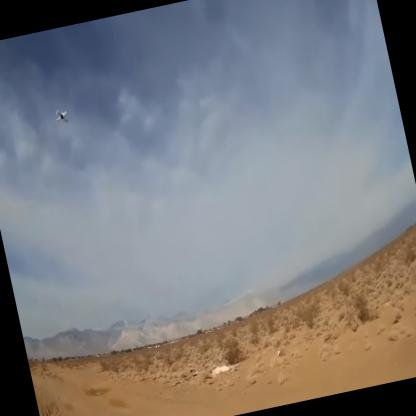drone: (53, 102, 73, 127)
